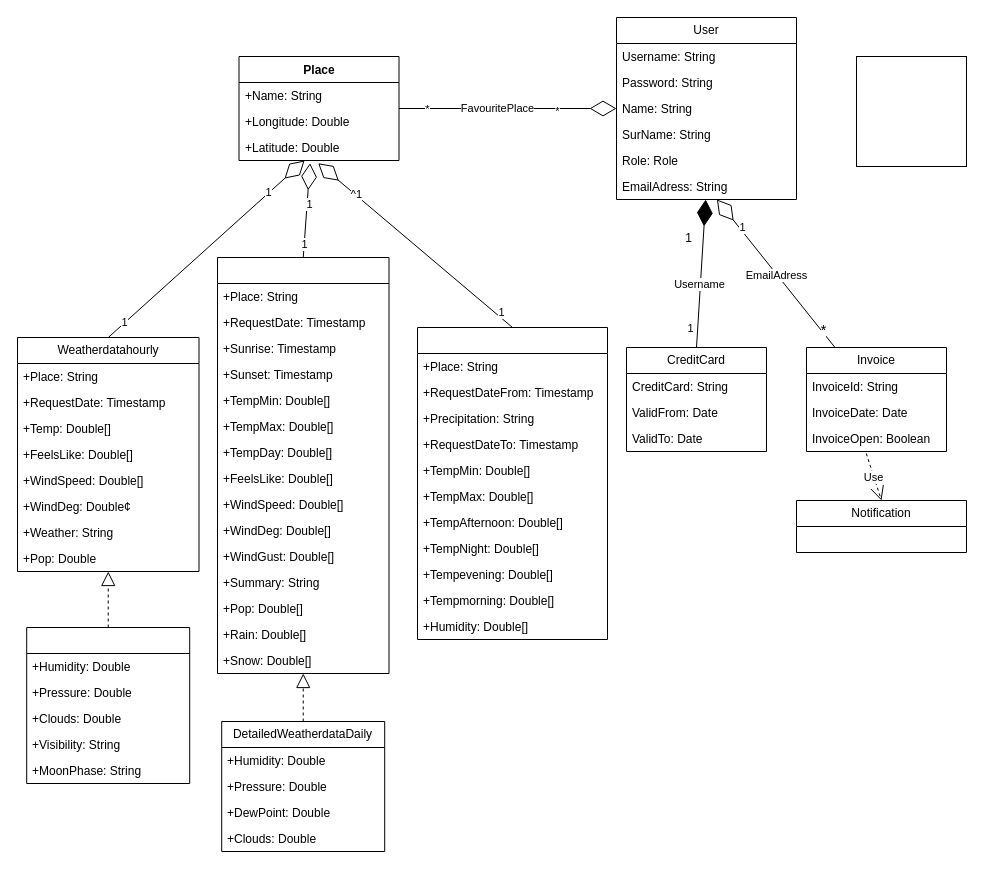
This 984x872 diagram has some shape labels left out. Each missing label, with the box of its shape:
<<enumeration>> Role USER MANAGER ADMIN PREMIUM: (856, 56, 966, 166)
DetailedWeatherdataHourly: (26, 626, 190, 784)
VacationWeatherdata: (416, 326, 608, 640)
WeatherdataDaily: (216, 256, 389, 674)
